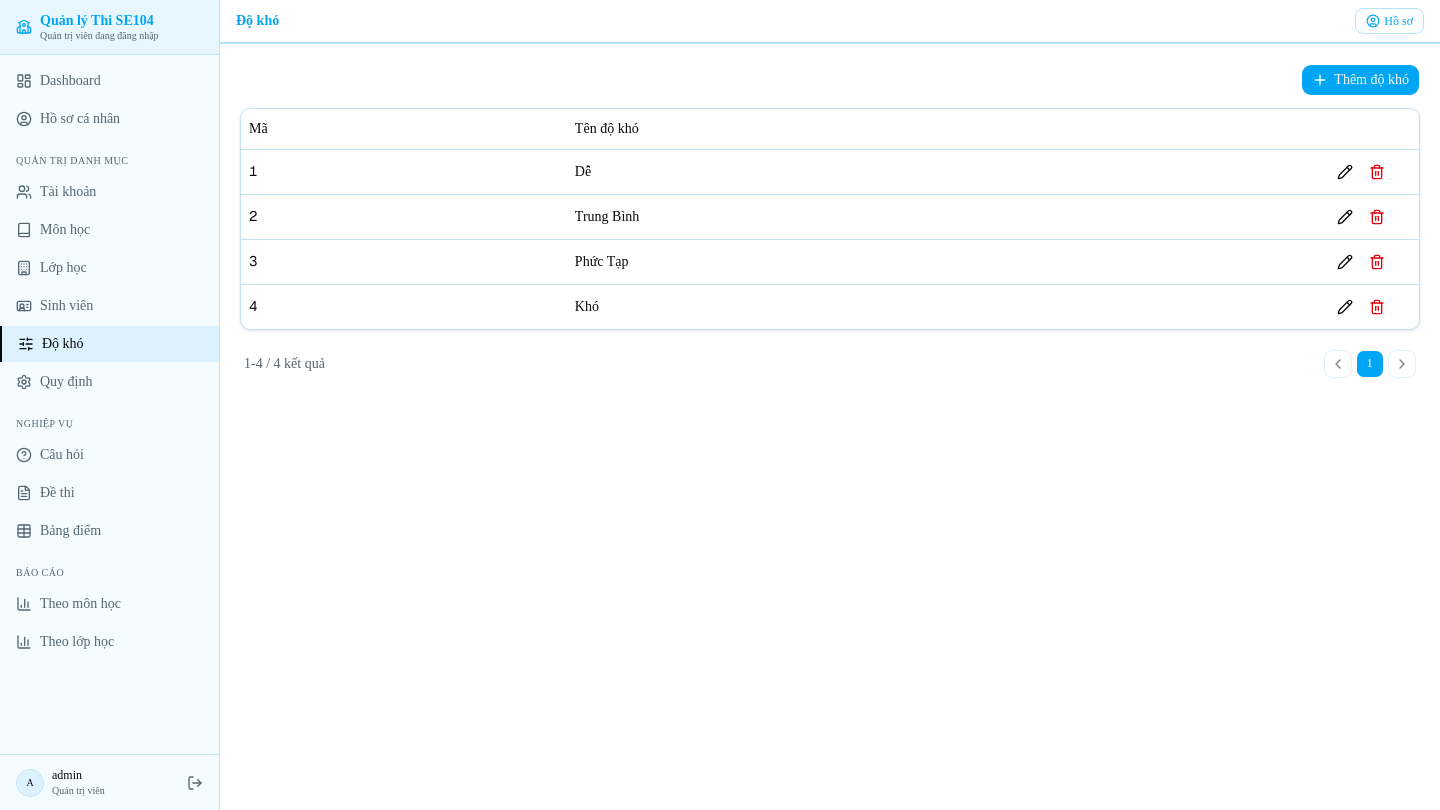
DifficultiesPage › admin can create + delete a difficulty
Expected: the text "Dễ" is shown, [567,149,1323,194]
Click the button "Thêm độ khó" at (1361, 80), box [1301,64,1420,96]
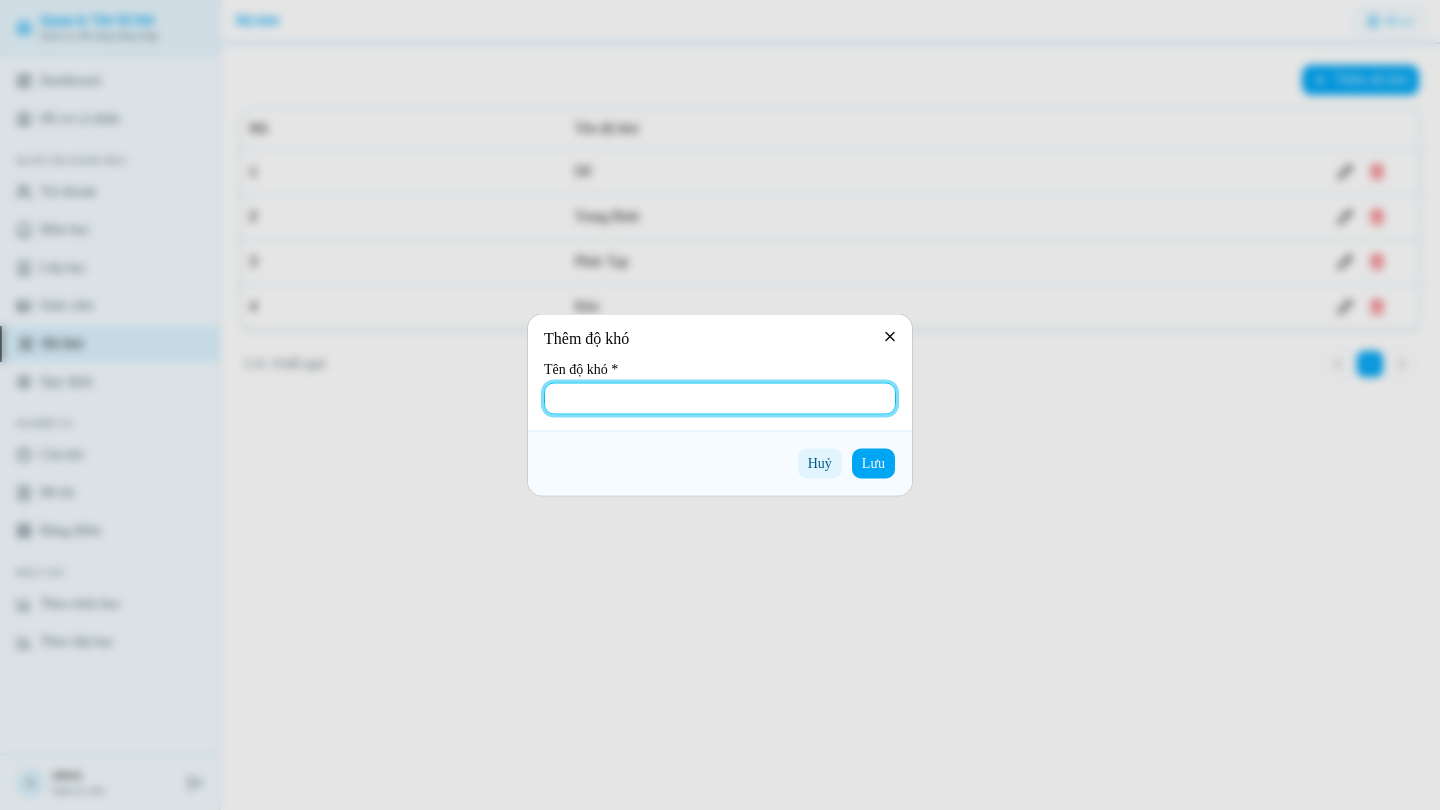
Type "Siêu khó" into the field labelled "Tên độ khó *" at (720, 398), box [544,382,896,414]
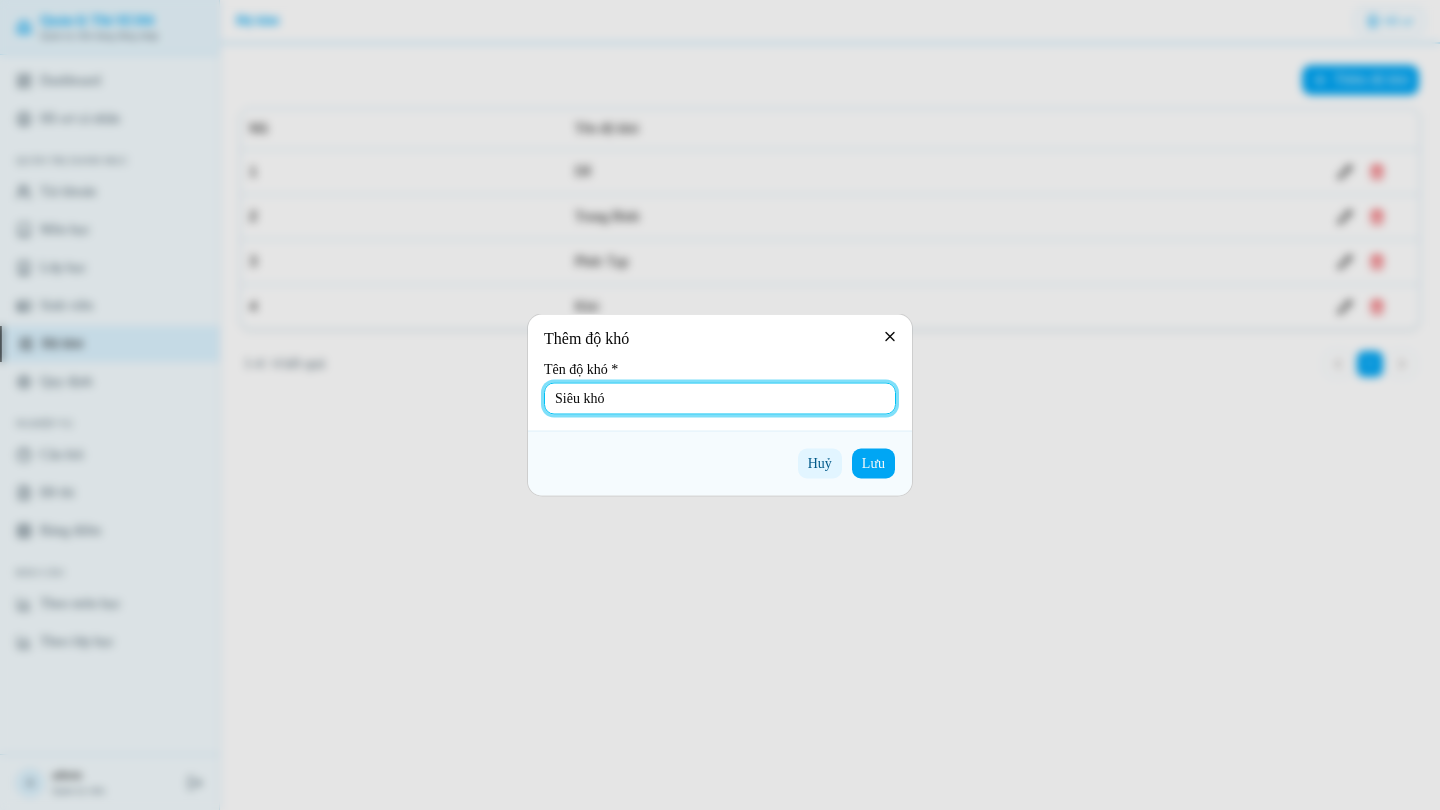
Click the button "Lưu" at (873, 464), box [851,448,896,480]
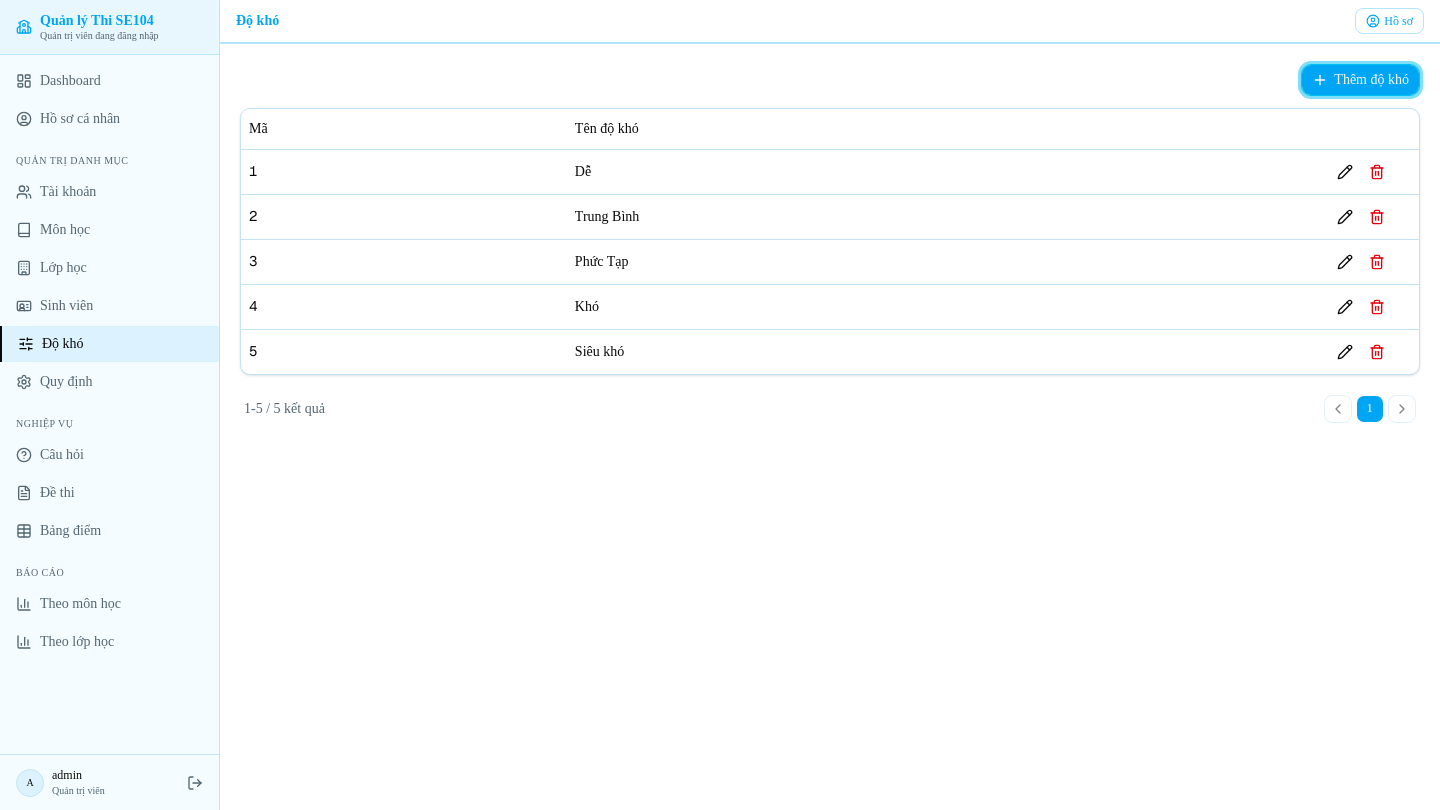
Expected: the text "Siêu khó" is shown, [567,329,1323,374]
